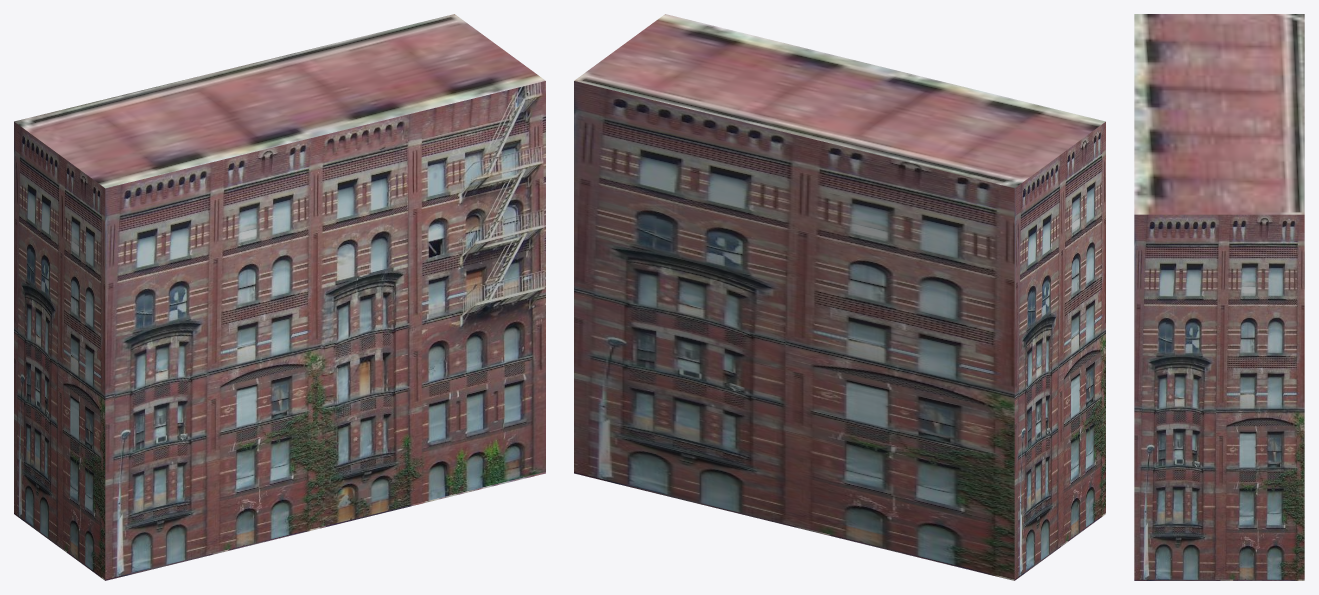
The model's file is lic_walkup_5.glb.
3 views of the same model, side by side, from view 1: azimuth 30°, elevation 25°; view 2: azimuth 150°, elevation 25°; view 3: azimuth 270°, elevation 25° (orthographic). The views are drawn at different scales.
Visible parts, largest first — view 1: building; view 2: building; view 3: building.
Boxes of the visible parts, <box> form: building: <box>14,14,545,580</box>; building: <box>574,14,1105,580</box>; building: <box>1134,14,1304,580</box>.
Bounding box in the file's own units: 21.14 × 18 × 7.59.
Materials: 1 (1 with a texture image).
